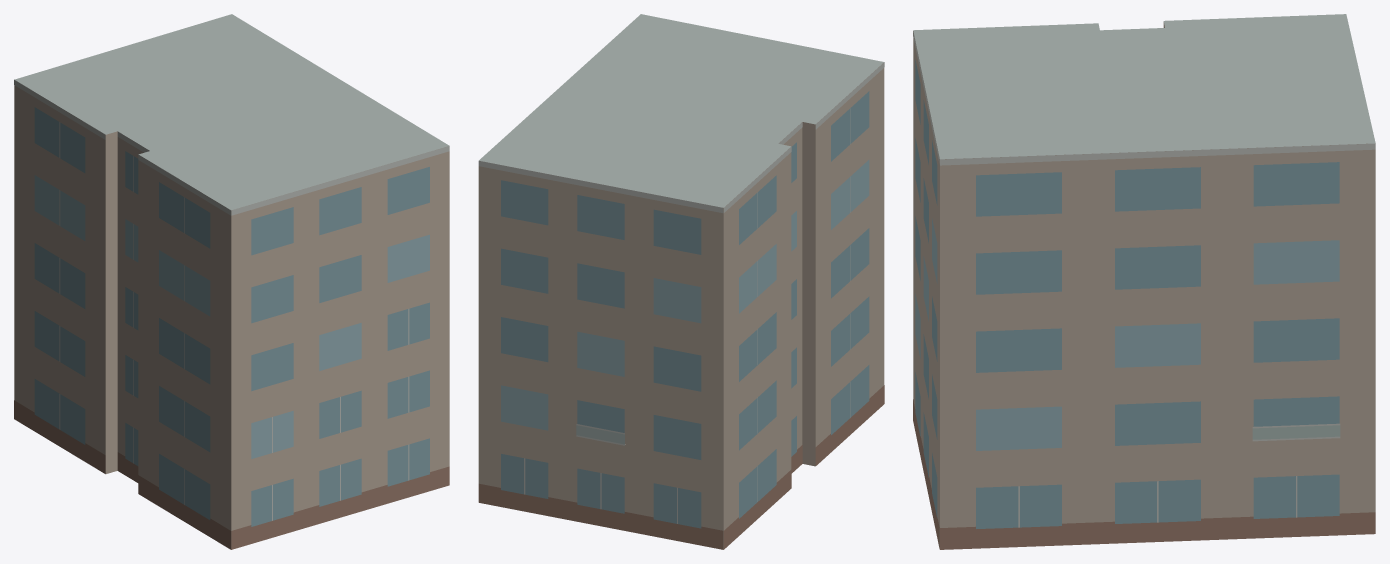
The model's file is survey-upis-32724826.glb.
The picture shows the model from 3 angles, left to right: view 1: azimuth 30°, elevation 25°; view 2: azimuth 150°, elevation 25°; view 3: azimuth 270°, elevation 25°; orthographic projection. The views are drawn at different scales.
Visible parts, largest first — view 1: survey-upis-32724826.tmp; view 2: survey-upis-32724826.tmp; view 3: survey-upis-32724826.tmp.
Boxes of the visible parts, box(x1,y1,x2,y2) form: survey-upis-32724826.tmp: box(14, 14, 449, 549); survey-upis-32724826.tmp: box(478, 14, 884, 549); survey-upis-32724826.tmp: box(913, 14, 1375, 549).
Bounding box in the file's own units: 12.18 × 15.25 × 16.38.
